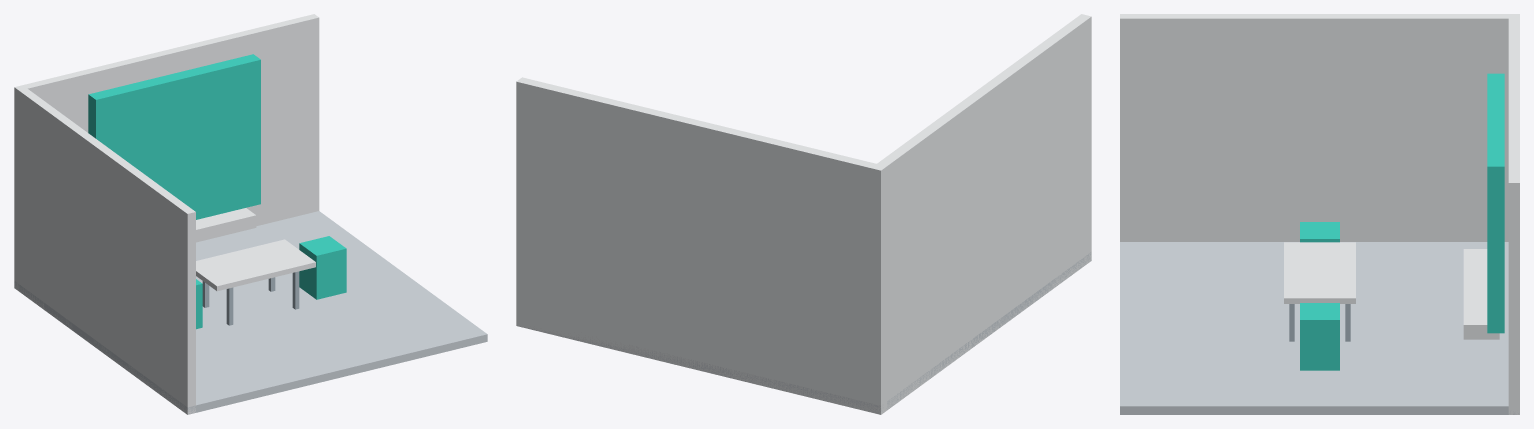
The picture shows the model from 3 angles, left to right: view 1: azimuth 30°, elevation 25°; view 2: azimuth 150°, elevation 25°; view 3: azimuth 270°, elevation 25°; orthographic projection. The views are drawn at different scales.
Parts seen in each view (by area): view 1: Exhibition Booth Concept; view 2: Exhibition Booth Concept; view 3: Exhibition Booth Concept.
Part boxes in pixels (<box>): Exhibition Booth Concept: <box>14,14,487,414</box>; Exhibition Booth Concept: <box>516,14,1091,414</box>; Exhibition Booth Concept: <box>1120,14,1519,414</box>.
Bounding box in the file's own units: 5 × 3.2 × 5.
